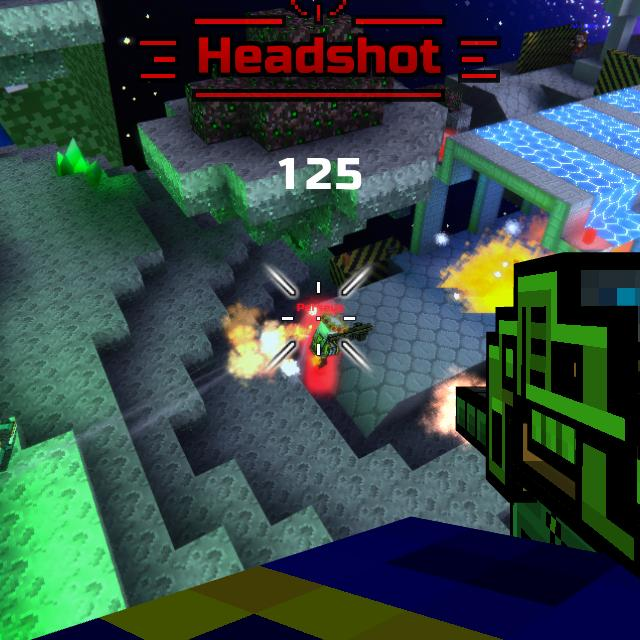Enemy: (311, 313, 343, 370)
